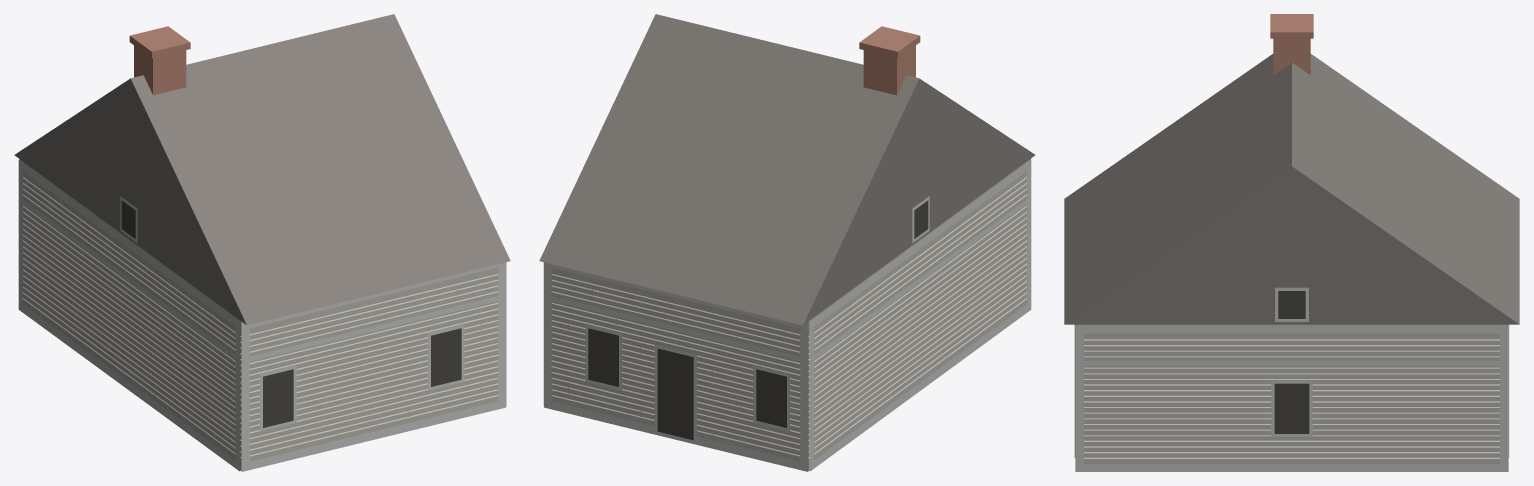
The model's file is recon_1835_west_034__inferred_1835.glb.
3 renders of one model, left to right at view 1: azimuth 30°, elevation 25°; view 2: azimuth 150°, elevation 25°; view 3: azimuth 270°, elevation 25°, orthographic. The views are drawn at different scales.
Visible parts, largest first — view 1: recon_1835_west_034__inferred_1835; view 2: recon_1835_west_034__inferred_1835; view 3: recon_1835_west_034__inferred_1835.
Boxes of the visible parts, bbox=[...] form: recon_1835_west_034__inferred_1835: bbox=[14, 14, 510, 471]; recon_1835_west_034__inferred_1835: bbox=[539, 14, 1035, 471]; recon_1835_west_034__inferred_1835: bbox=[1064, 14, 1519, 471].
Size of the model in its own units: 6.8 by 8.36 by 10.25.
